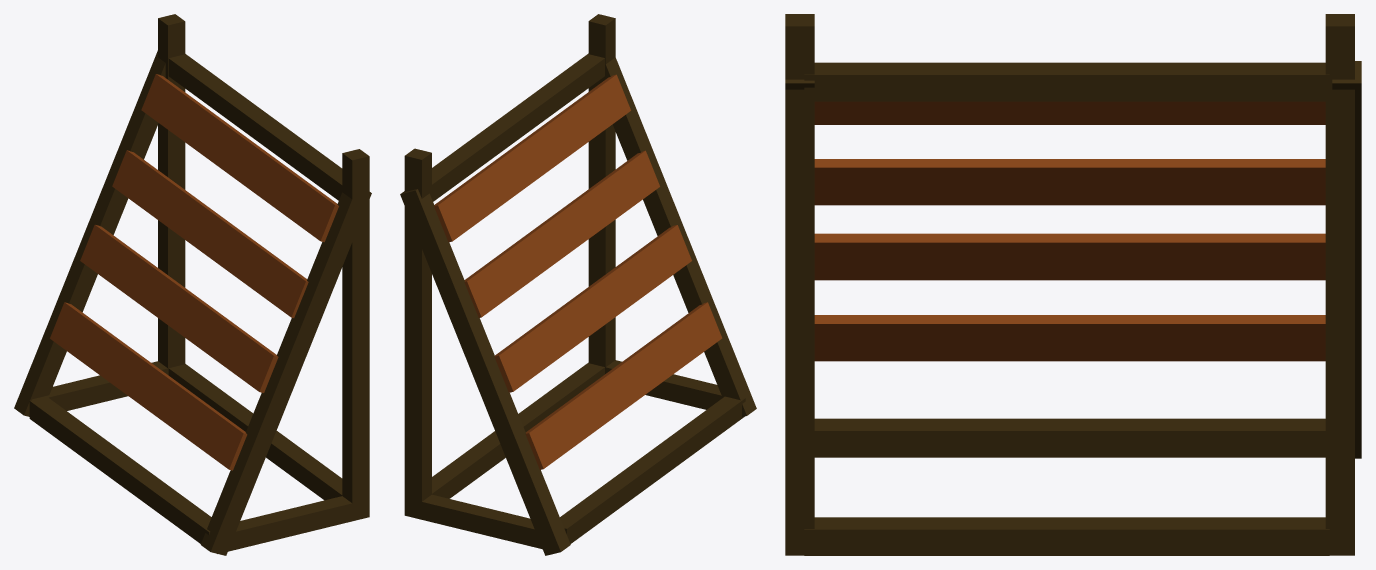
File: drzac za oruzje.FBX
3 renders of one model, left to right at view 1: azimuth 30°, elevation 25°; view 2: azimuth 150°, elevation 25°; view 3: azimuth 270°, elevation 25°, orthographic. The views are drawn at different scales.
Parts seen in each view (by area): view 1: Box1511, Box1519; view 2: Box1511, Box1519; view 3: Box1511, Box1519.
Part boxes in pixels (box(x1,y1,x2,y2)): Box1511: box(14, 14, 371, 555); Box1519: box(50, 74, 338, 470); Box1511: box(400, 14, 756, 555); Box1519: box(434, 74, 722, 469); Box1511: box(785, 14, 1361, 555); Box1519: box(814, 101, 1325, 361).
Size of the model in its own units: 46.79 by 101 by 98.68.
